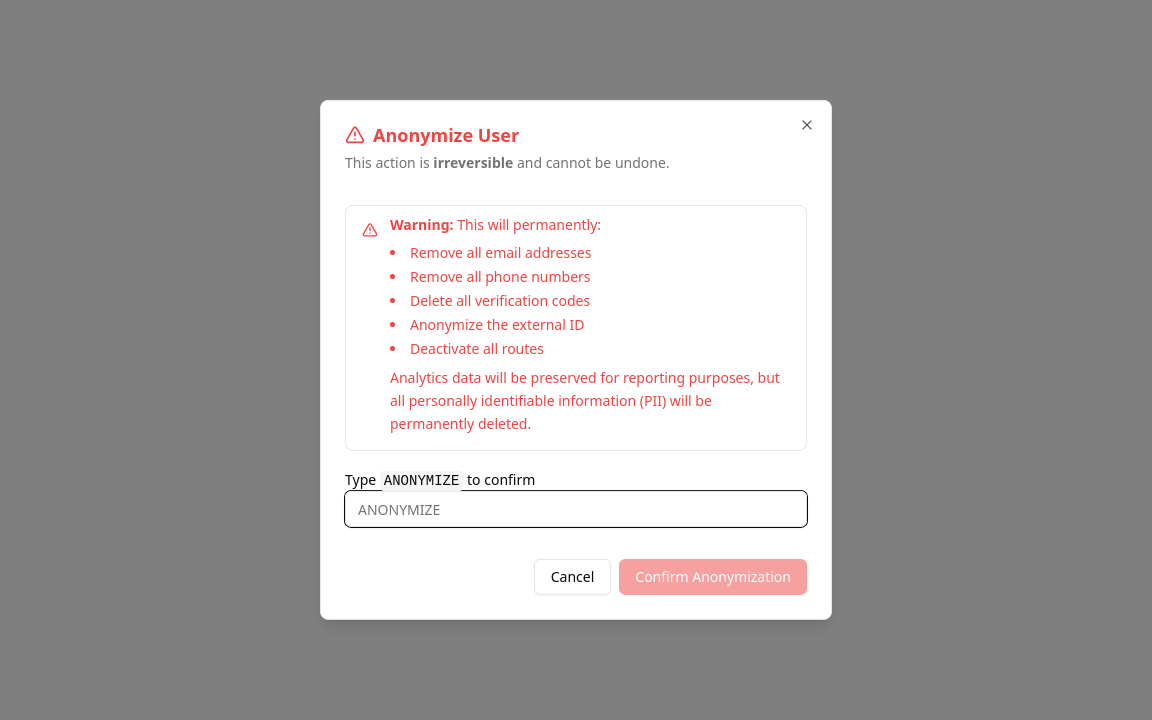
AnonymizeUserDialog › confirmation input validation › should show error message when input does not match
This screenshot has width=1152, height=720.
Type "anonymize" into the field with placeholder "ANONYMIZE".
click(576, 509); type("anonymize")  # box [345,491,807,527]
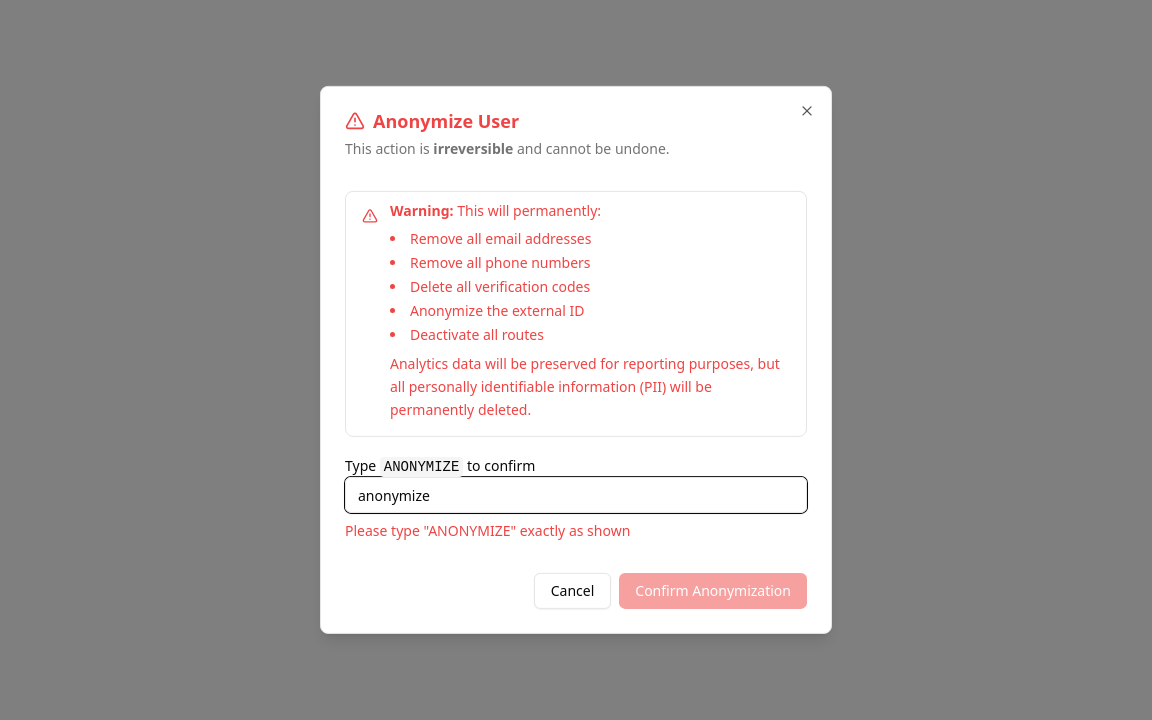
Check: the text "Please type \"ANONYMIZE\" exactly as shown" is shown, box [345,521,630,540]
